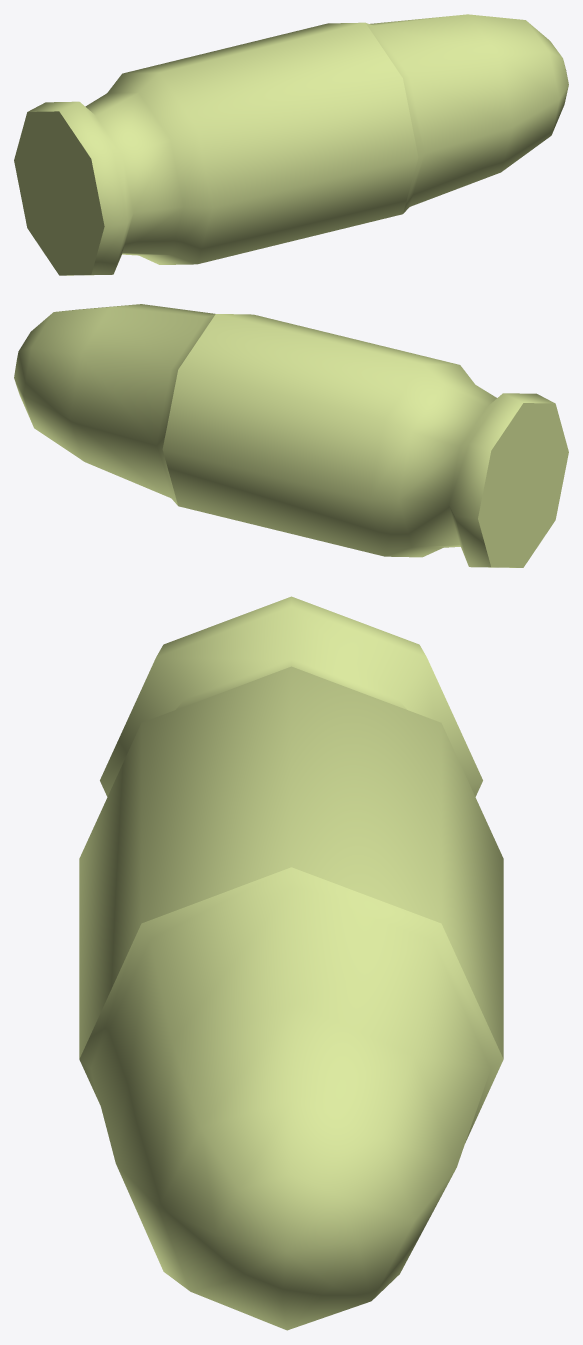
File: bullet 90.FBX
3 views of the same model, one above another, from view 1: azimuth 30°, elevation 25°; view 2: azimuth 150°, elevation 25°; view 3: azimuth 270°, elevation 25° (orthographic). The views are drawn at different scales.
Parts seen in each view (by area): view 1: ChamferCyl004; view 2: ChamferCyl004; view 3: ChamferCyl004.
Part boxes in pixels (x1,y1,x2,y2): ChamferCyl004: [14, 14, 568, 275]; ChamferCyl004: [14, 304, 568, 567]; ChamferCyl004: [79, 596, 503, 1330].
Bounding box in the file's own units: 49.58 × 18.02 × 18.02.
